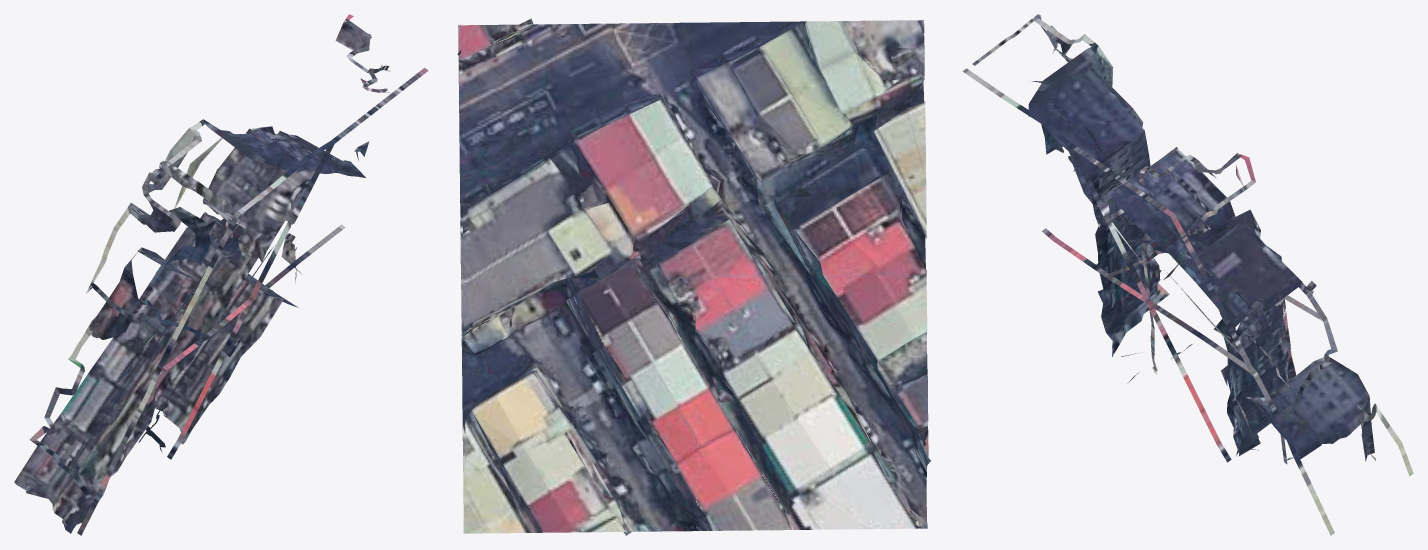
The picture shows the model from 3 angles, left to right: view 1: azimuth 30°, elevation 25°; view 2: azimuth 150°, elevation 25°; view 3: azimuth 270°, elevation 25°; orthographic projection. The views are drawn at different scales.
Bounding box in the file's own units: 81.96 × 77.21 × 78.04.
1 material, 1 textured.
